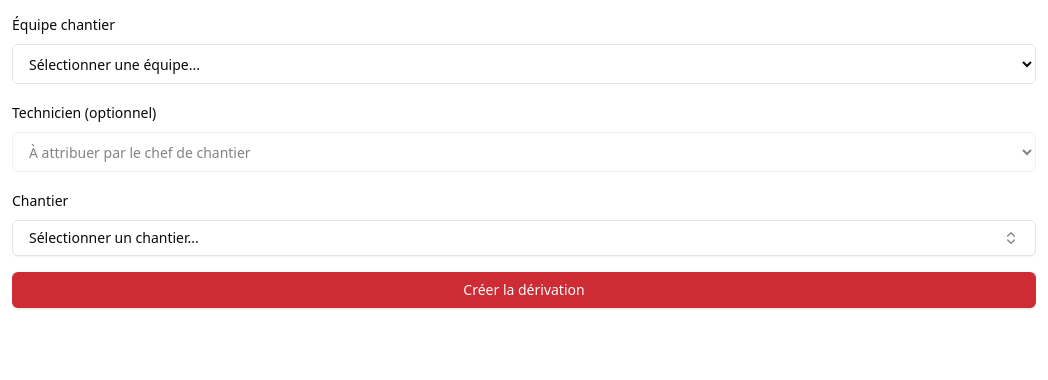
Scenario: CreateDerivationForm › requires a team before submitting
The image size is (1048, 380).
Click the button "Créer la dérivation". click: (524, 290)
box: 12,272 -> 1036,308
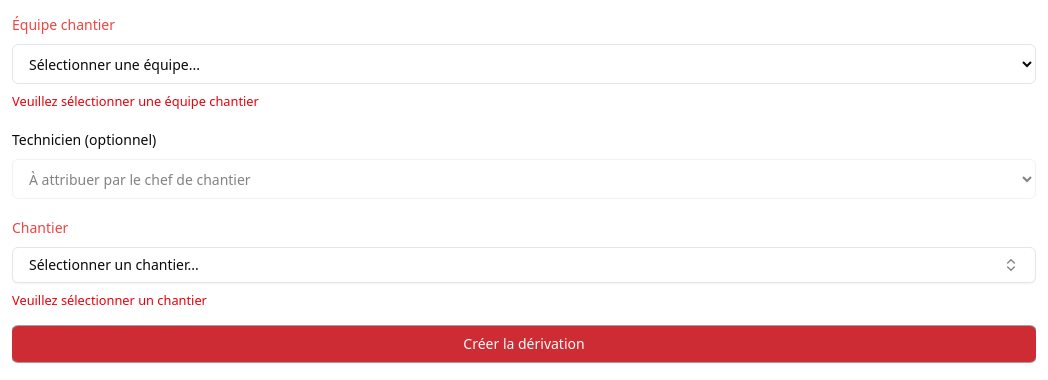
Expected: the text "Veuillez sélectionner une équipe chantier" is shown, 12,92 -> 259,110
